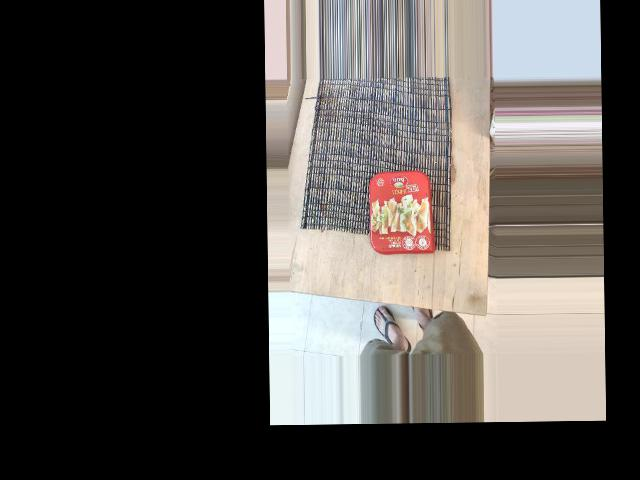cheese: (359, 166, 462, 270)
